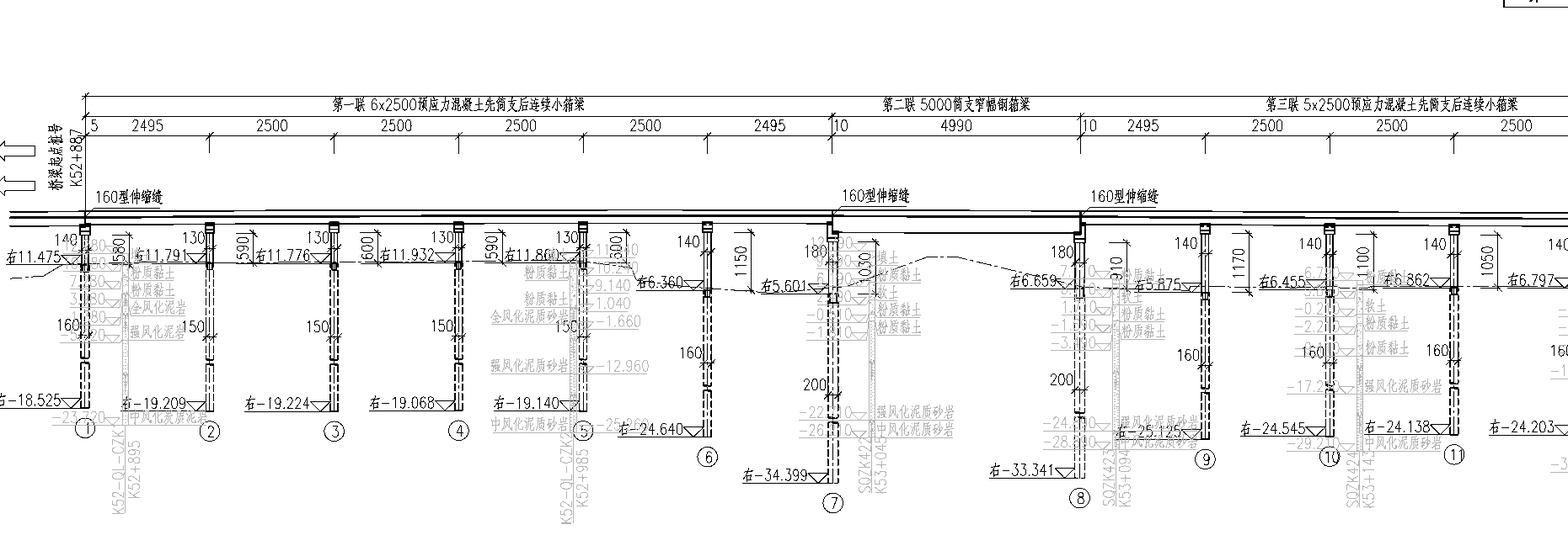B: (84, 87, 850, 130), (1079, 83, 1567, 129)
C: (746, 218, 854, 520), (996, 217, 1101, 511), (629, 214, 729, 471), (1250, 215, 1350, 471), (1373, 216, 1474, 469), (258, 215, 353, 447), (1139, 218, 1225, 473), (8, 216, 104, 443), (388, 215, 478, 447), (139, 215, 226, 446), (522, 215, 601, 445)
